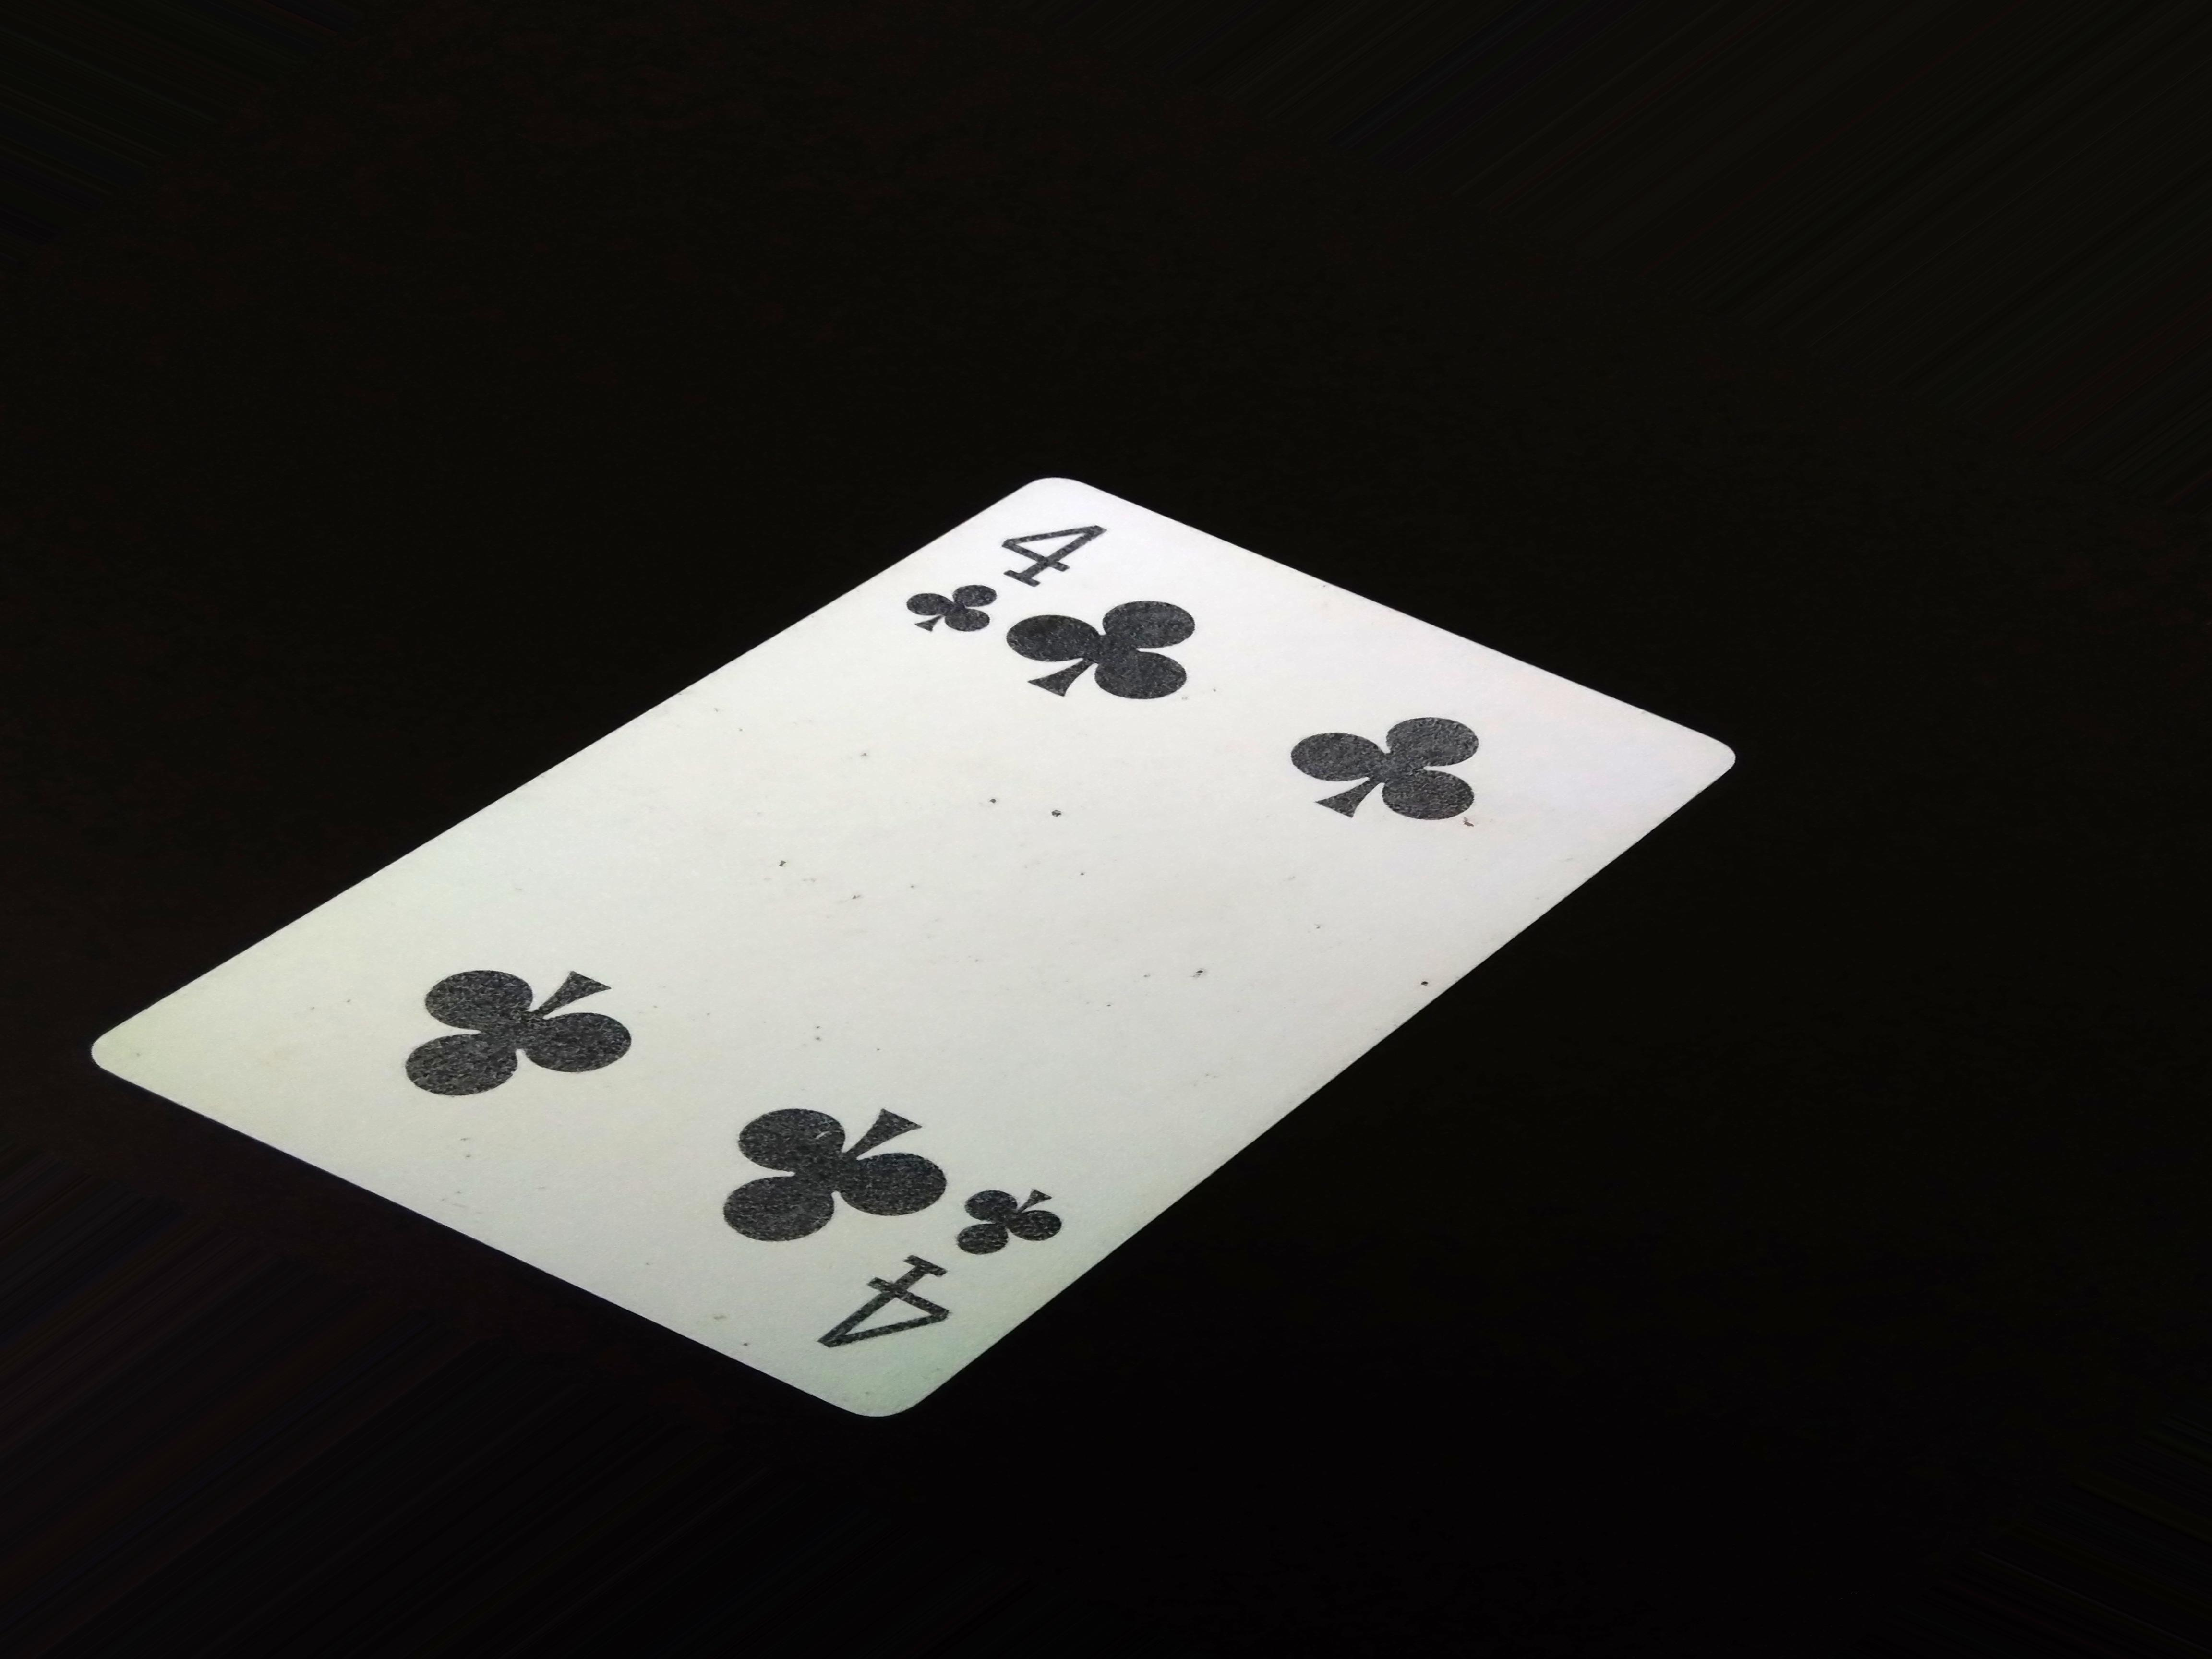4C: (815, 1178, 1085, 1368)
